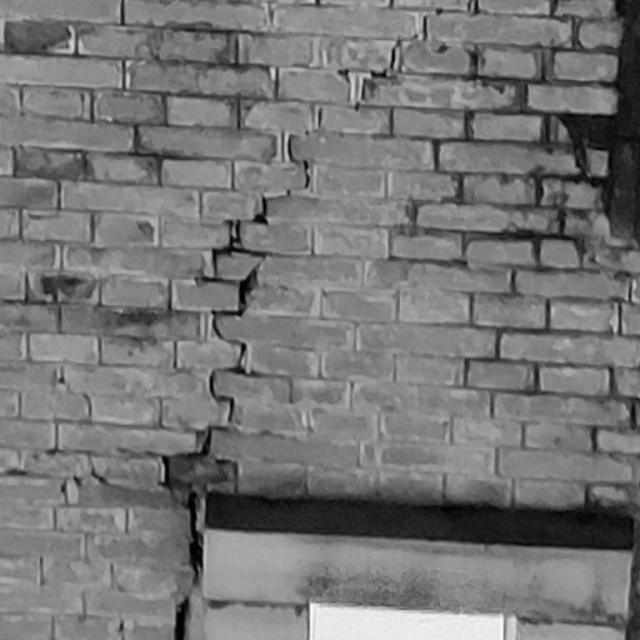crack: (157, 1, 478, 640)
